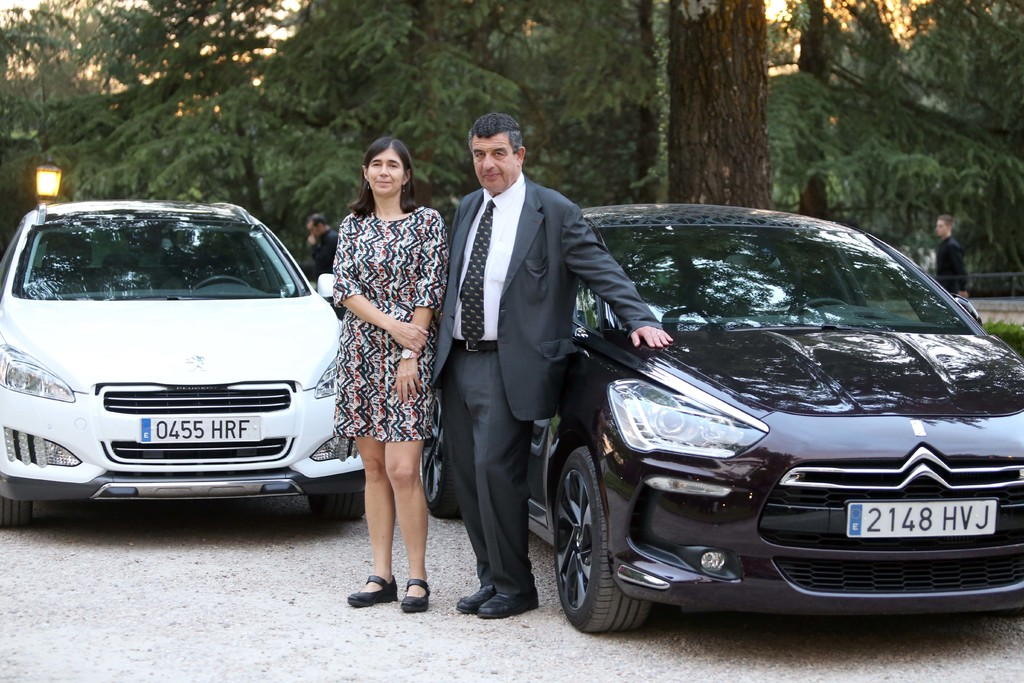Person: (430, 114, 673, 619), (334, 137, 450, 614), (936, 214, 970, 300), (306, 212, 339, 272)
